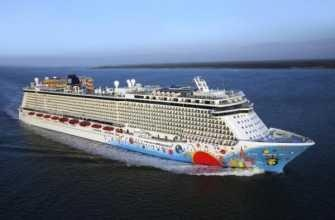youlun: (20, 66, 318, 175)
